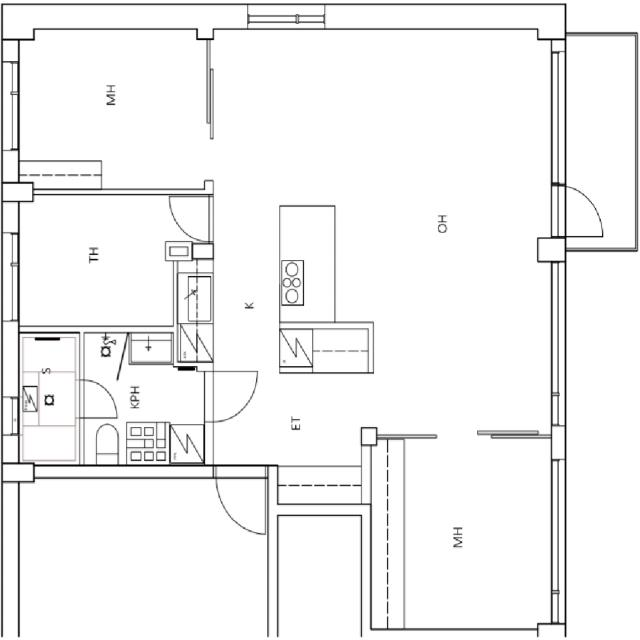door: (216, 465, 265, 532), (551, 185, 611, 236), (204, 372, 256, 422), (169, 195, 213, 241), (75, 380, 116, 418)
